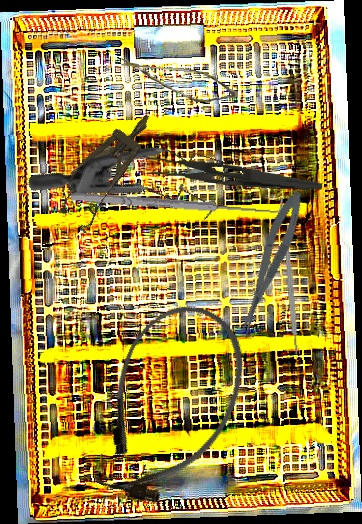Cannula: (72, 287, 267, 522)
Dressing Forceps: (141, 153, 324, 191)
Hook Surgical: (70, 182, 284, 219)
Micro Scissor: (228, 187, 311, 341), (115, 57, 241, 106)
Scalpel Handle: (283, 242, 300, 356)
Speculum: (25, 85, 248, 289), (47, 100, 168, 235)
